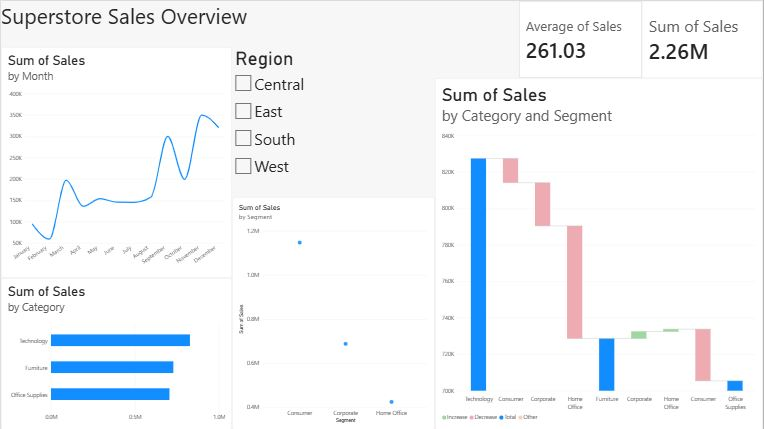

The page's visual inventory and layout, read from the dashboard file:
{"tool":"powerbi","page":{"name":"Page 1","canvas":[1920,1080],"ordinal":0},"visuals":[{"type":"cardVisual","fields":{"Data":["Sum(superstore_summary.Sales)"]},"box":[1615.1,0,304.9,194],"z":0},{"type":"textbox","box":[0,0,1053.2,98.3],"z":1},{"type":"lineChart","fields":{"Category":["superstore_summary.Order Date.Variation.Date Hierarchy.Month"],"Y":["Sum(superstore_summary.Sales)"]},"box":[0,115.9,582,582],"z":2},{"type":"barChart","fields":{"Category":["superstore_summary.Category"],"Y":["Sum(superstore_summary.Sales)"]},"box":[0,698,582,383],"z":3},{"type":"slicer","fields":{"Values":["superstore_summary.Region"]},"box":[582,115.9,269.6,378],"z":4},{"type":"cardVisual","fields":{"Data":["Avg(superstore_summary.Sales)"]},"box":[1305.2,0,309.9,194],"z":5},{"type":"waterfallChart","fields":{"Breakdown":["superstore_summary.Segment"],"Category":["superstore_summary.Category"],"Y":["Sum(superstore_summary.Sales)"]},"box":[1093.5,194,826.5,886.9],"z":6},{"type":"scatterChart","fields":{"X":["superstore_summary.Segment"],"Y":["Sum(superstore_summary.Sales)"]},"box":[582,493.9,511.5,587.1],"z":7}]}

Visuals, with their boxes in screenshot pixels (x1, y1, x2, y2), scaled from the page's 1920x1080 canvas onto the 764x429 screenshot:
cardVisual - Sum(superstore_summary.Sales): bbox=(643, 0, 763, 77)
textbox: bbox=(0, 0, 419, 39)
lineChart - superstore_summary.Order Date.Variation.Date Hierarchy.Month x Sum(superstore_summary.Sales): bbox=(0, 46, 232, 277)
barChart - superstore_summary.Category x Sum(superstore_summary.Sales): bbox=(0, 277, 232, 428)
slicer - superstore_summary.Region: bbox=(232, 46, 339, 196)
cardVisual - Avg(superstore_summary.Sales): bbox=(519, 0, 643, 77)
waterfallChart - superstore_summary.Segment x superstore_summary.Category: bbox=(435, 77, 763, 428)
scatterChart - superstore_summary.Segment x Sum(superstore_summary.Sales): bbox=(232, 196, 435, 428)
